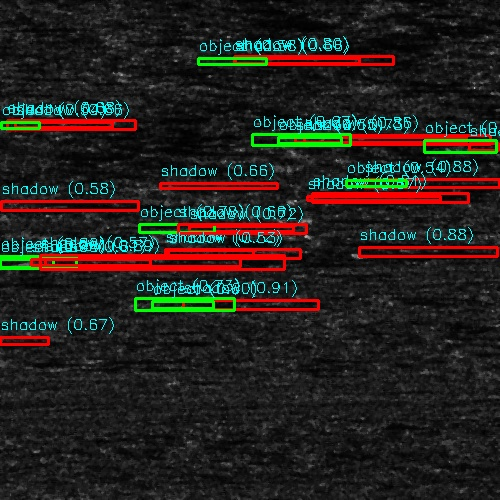rock: (198, 191, 395, 206), (110, 182, 203, 189), (0, 199, 68, 208), (433, 143, 486, 152), (0, 255, 25, 272), (10, 107, 21, 142), (157, 224, 188, 233), (352, 180, 393, 185), (151, 303, 182, 308), (0, 358, 25, 363), (297, 136, 318, 141), (156, 149, 177, 152)
shadow: (16, 107, 186, 142), (10, 255, 261, 272), (297, 191, 500, 206), (32, 199, 215, 208), (173, 224, 289, 233), (308, 136, 500, 141), (157, 182, 274, 189), (0, 203, 85, 212), (167, 303, 320, 308), (373, 180, 500, 185), (460, 143, 500, 152), (5, 358, 76, 363), (167, 149, 280, 152), (0, 337, 31, 344)
